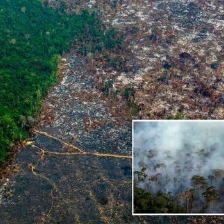incendio: (140, 132, 222, 195)
